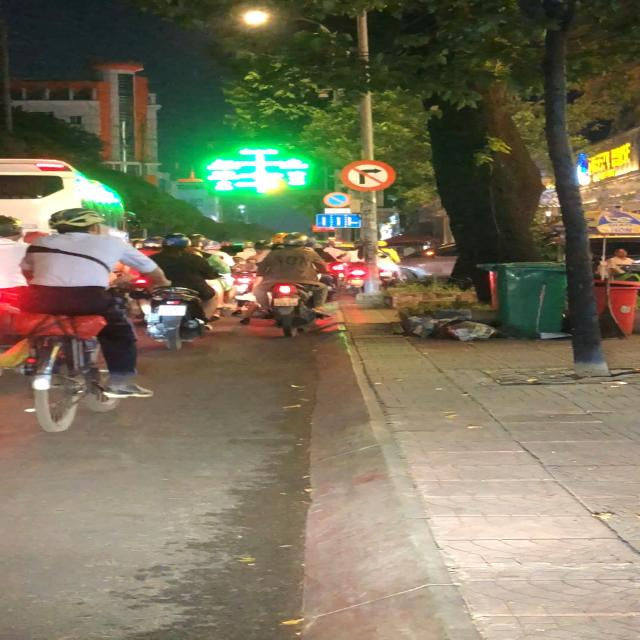Bien bao cam re phai: (338, 158, 396, 191)
